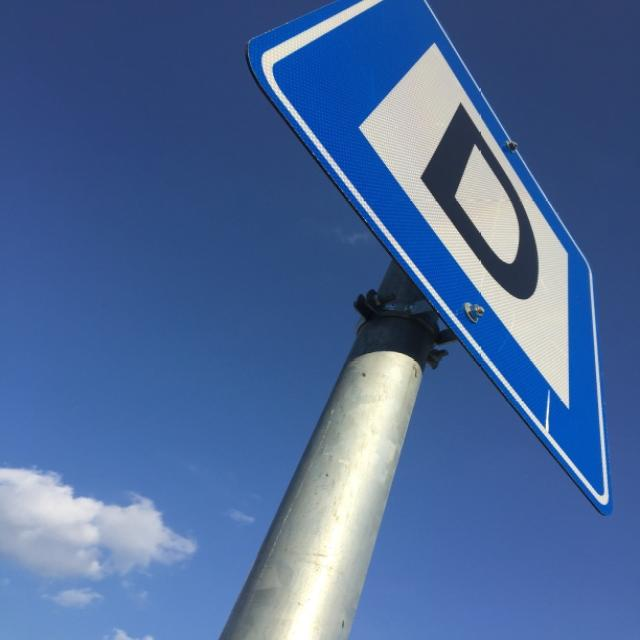durak: (242, 1, 634, 522)
